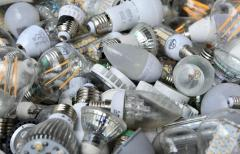lightbulb: (0, 0, 240, 154), (103, 43, 163, 83), (172, 55, 214, 97), (4, 1, 40, 38)
